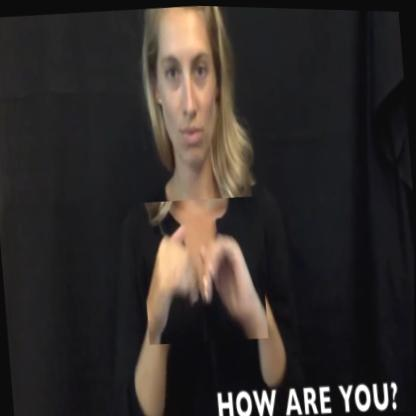HowAreYou: (138, 192, 270, 347)
